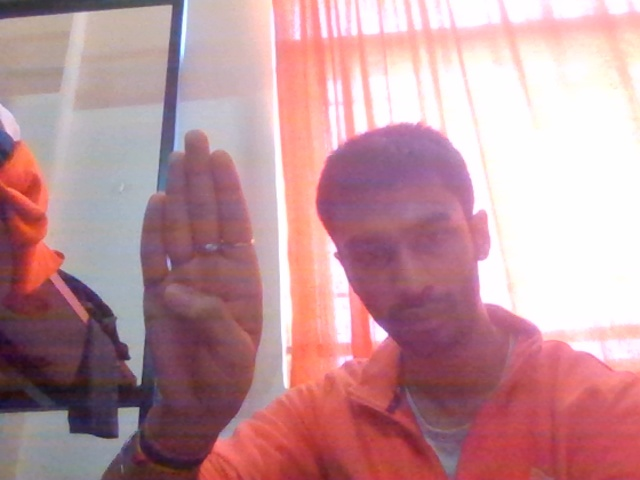B: (124, 124, 274, 471)
